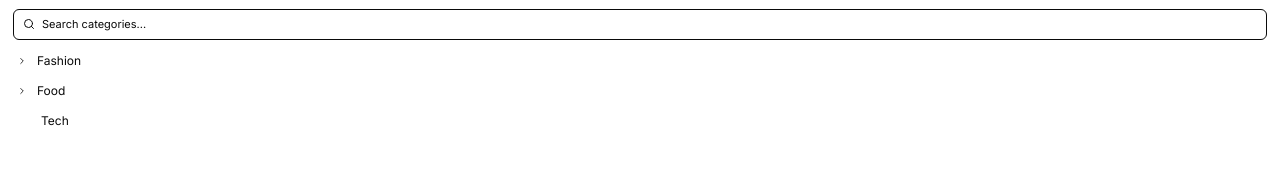
Test: NestedMultiselectFilter > expand/collapse › clicking the same parent again collapses
Click the button "Fashion".
click(59, 60)  # box [17,52,1233,70]
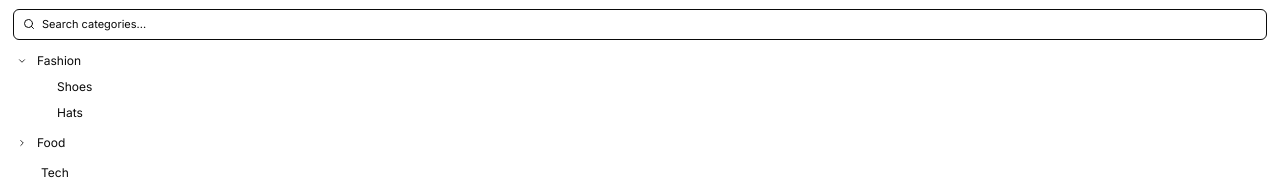
Click the button "Fashion".
click(59, 60)  # box [17,52,1233,70]
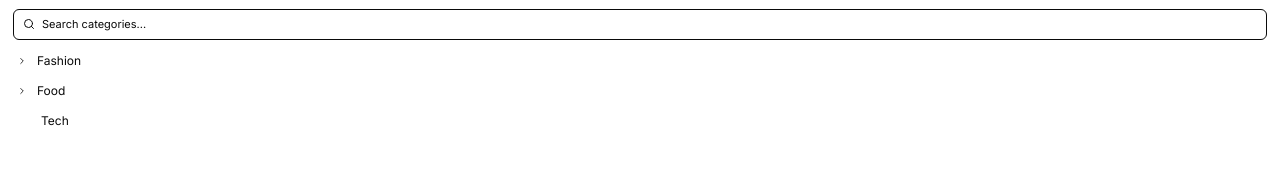
Expected: the button "Shoes" is gone
